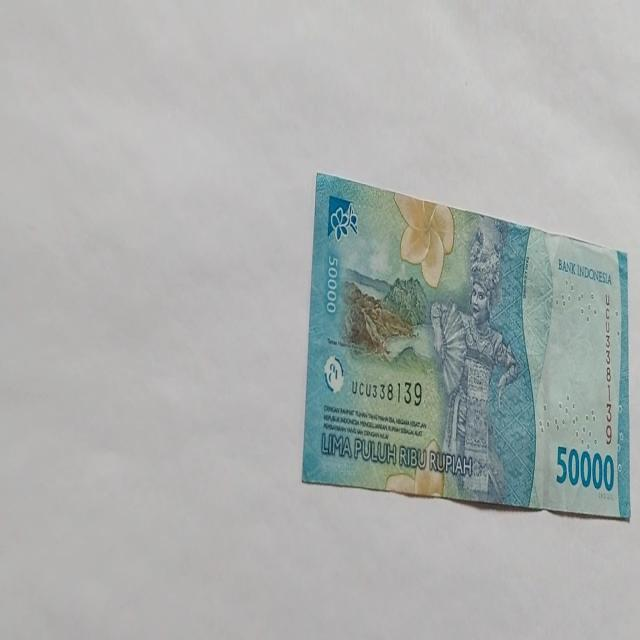lima puluh ribu rupiah: (300, 170, 630, 520)
